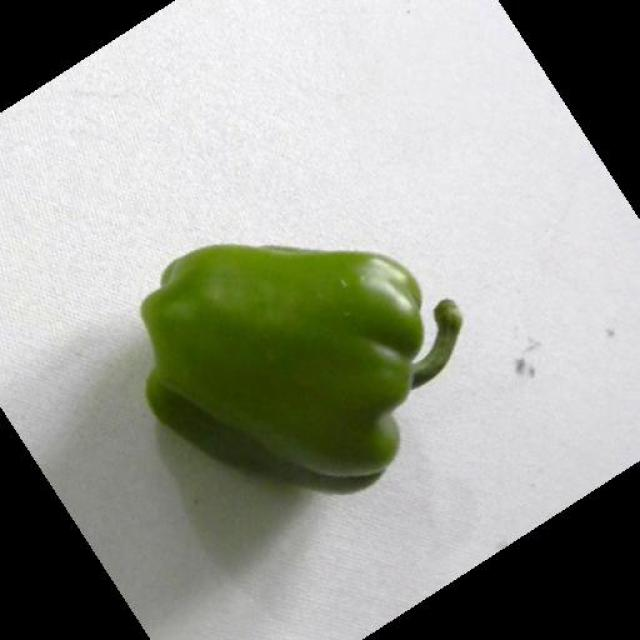Fresh_Capsicum: (140, 236, 408, 478)
